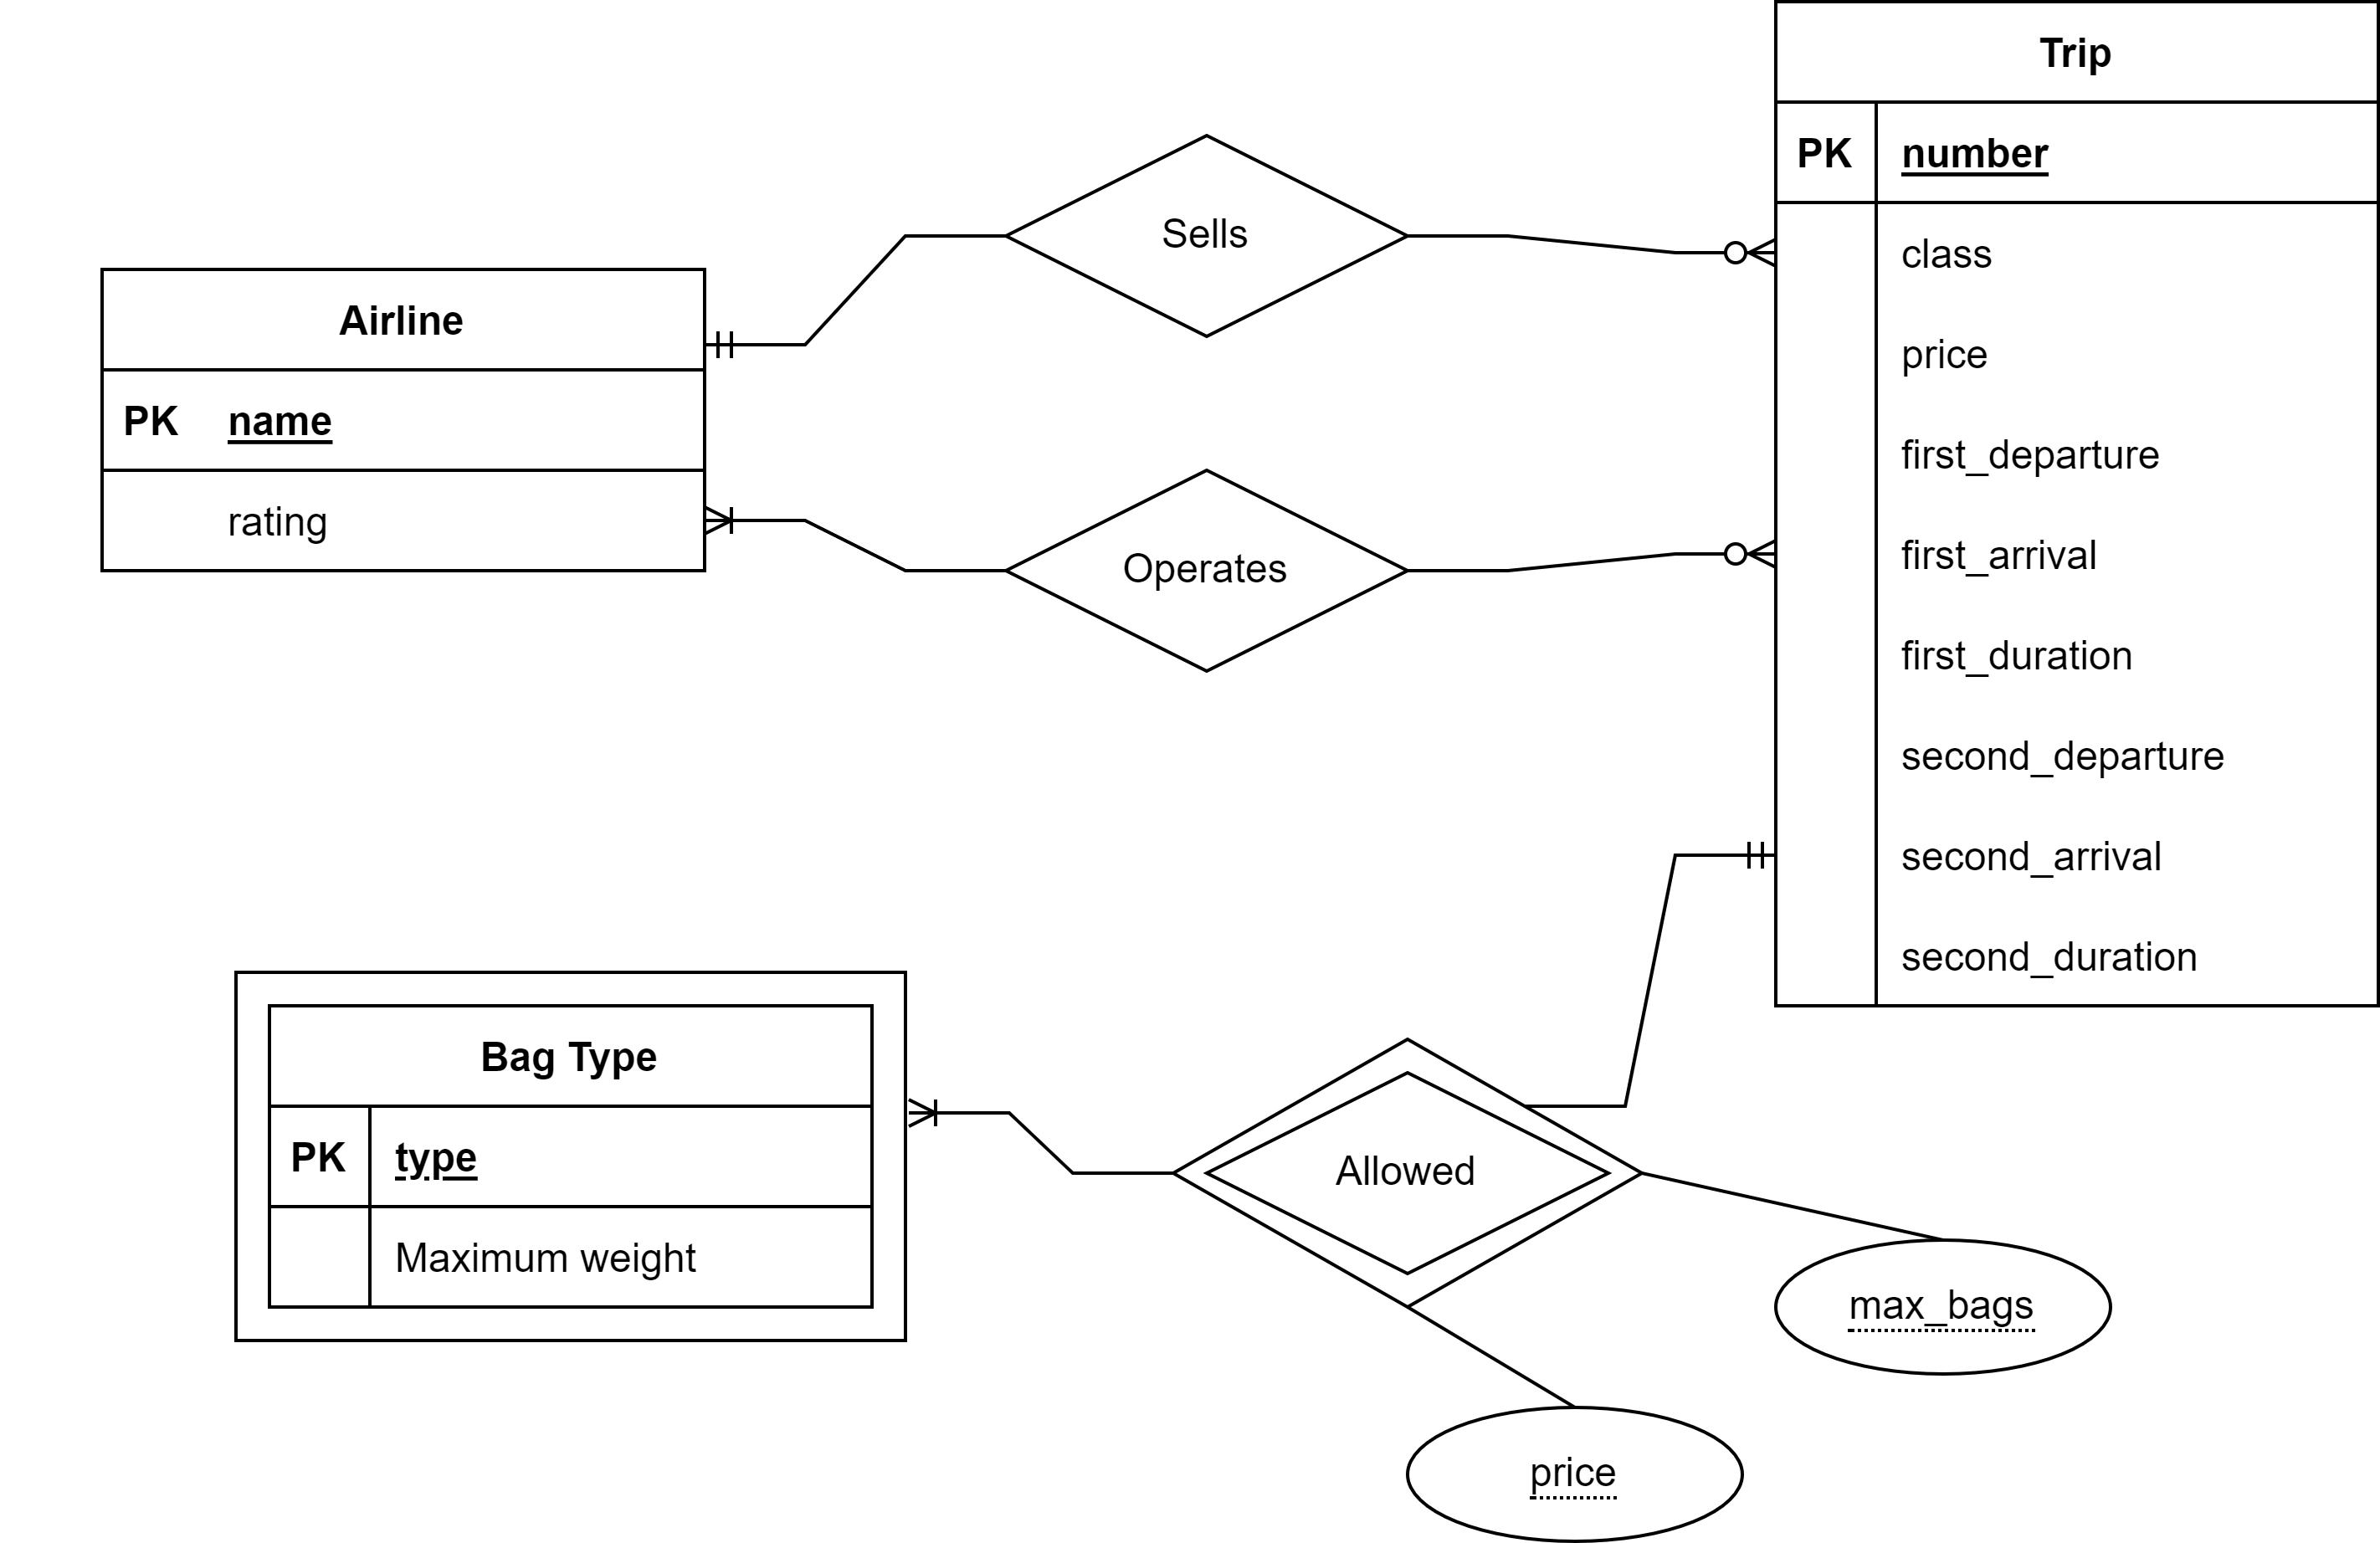attribute: (1776, 1240, 2115, 1377), (1405, 1410, 1747, 1543)
entity: (1771, 0, 2380, 1012), (92, 265, 711, 576)
relationship: (999, 133, 1409, 336), (1001, 468, 1403, 674)
weakentity: (224, 966, 911, 1352)
weakrelationship: (1178, 1037, 1644, 1305)
